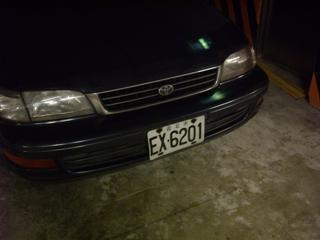plate: (146, 118, 207, 157)
